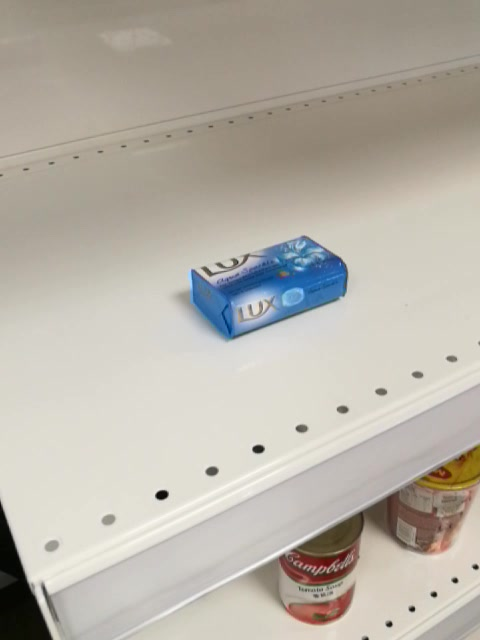soap: (189, 235, 348, 340)
